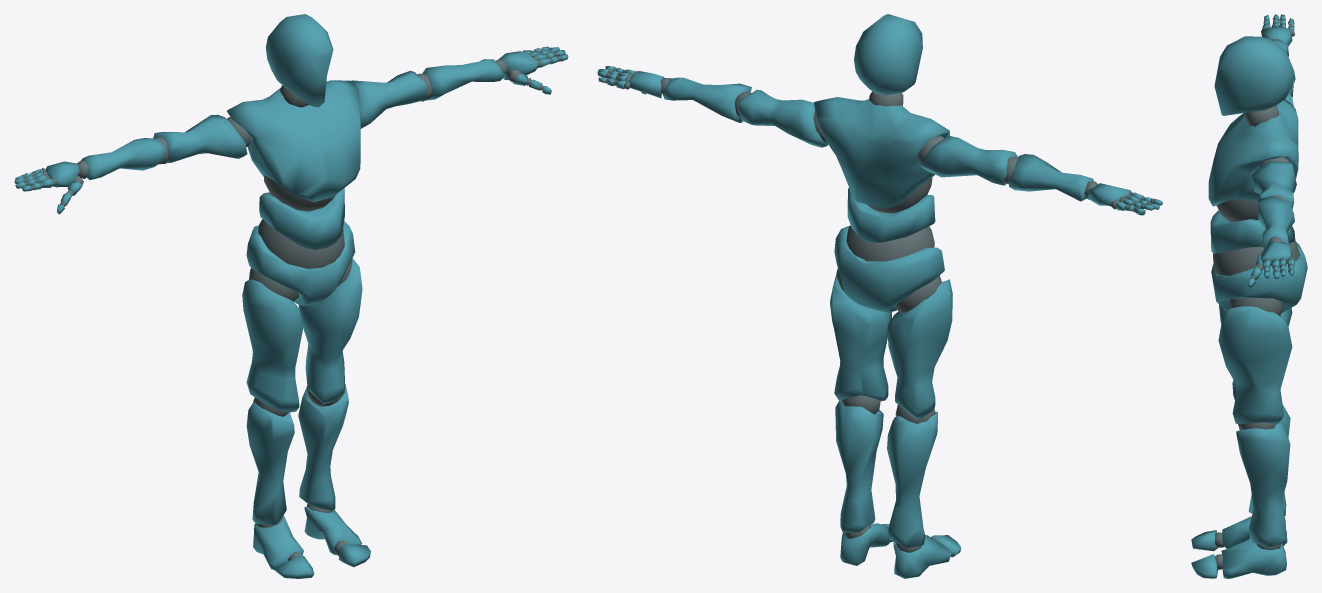
File: character.fbx
3 views of the same model, side by side, from view 1: azimuth 30°, elevation 25°; view 2: azimuth 150°, elevation 25°; view 3: azimuth 270°, elevation 25° (orthographic). The views are drawn at different scales.
Visible parts, largest first — view 1: Alpha_Joints; view 2: Alpha_Joints; view 3: Alpha_Joints.
Boxes of the visible parts, box(x1,y1,x2,y2) form: Alpha_Joints: box(14, 14, 568, 578); Alpha_Joints: box(597, 14, 1162, 578); Alpha_Joints: box(1191, 14, 1307, 578).
Size of the model in its own units: 892 by 828 by 168.
